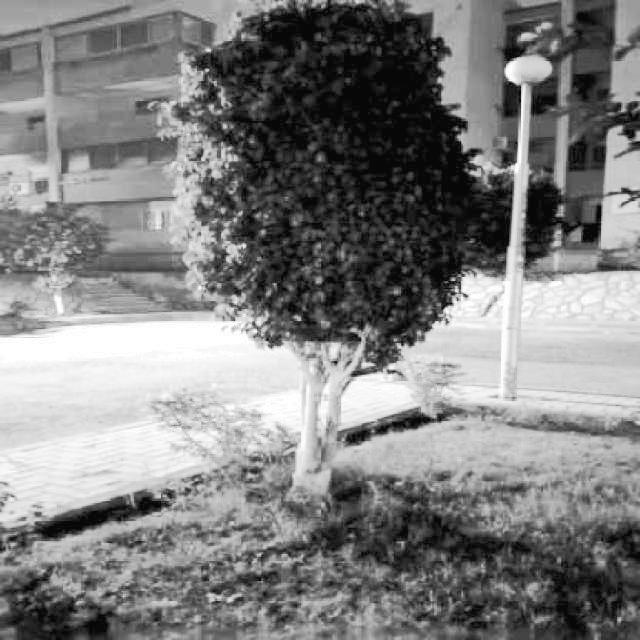Light: (496, 56, 554, 402)
Tree: (196, 0, 466, 519)
